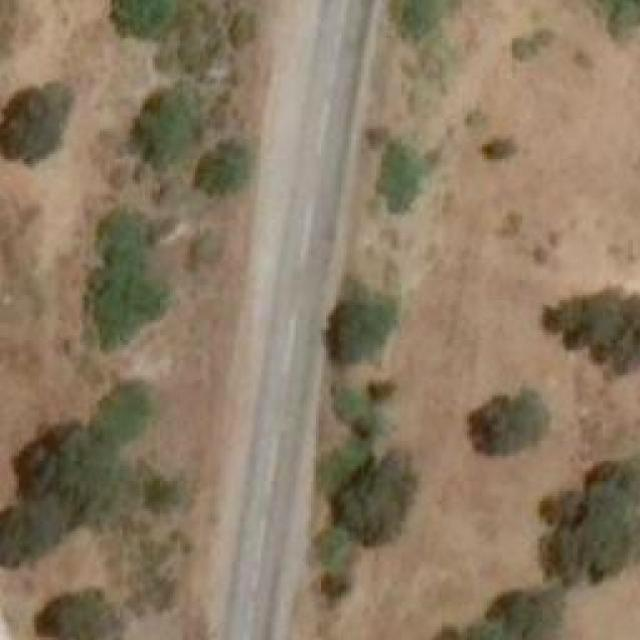Tree: (85, 208, 168, 358), (532, 486, 640, 585), (17, 426, 128, 522), (554, 288, 640, 373), (331, 456, 412, 541), (465, 382, 545, 461), (0, 78, 71, 164), (135, 89, 200, 174), (321, 295, 386, 368), (0, 501, 70, 566), (22, 593, 117, 640), (95, 378, 148, 449), (193, 134, 247, 202), (136, 469, 201, 522), (497, 586, 555, 640), (376, 139, 422, 207), (313, 441, 361, 489), (587, 0, 640, 43), (105, 0, 165, 36), (391, 0, 447, 38), (306, 530, 350, 568), (230, 3, 264, 50), (479, 132, 517, 162)
